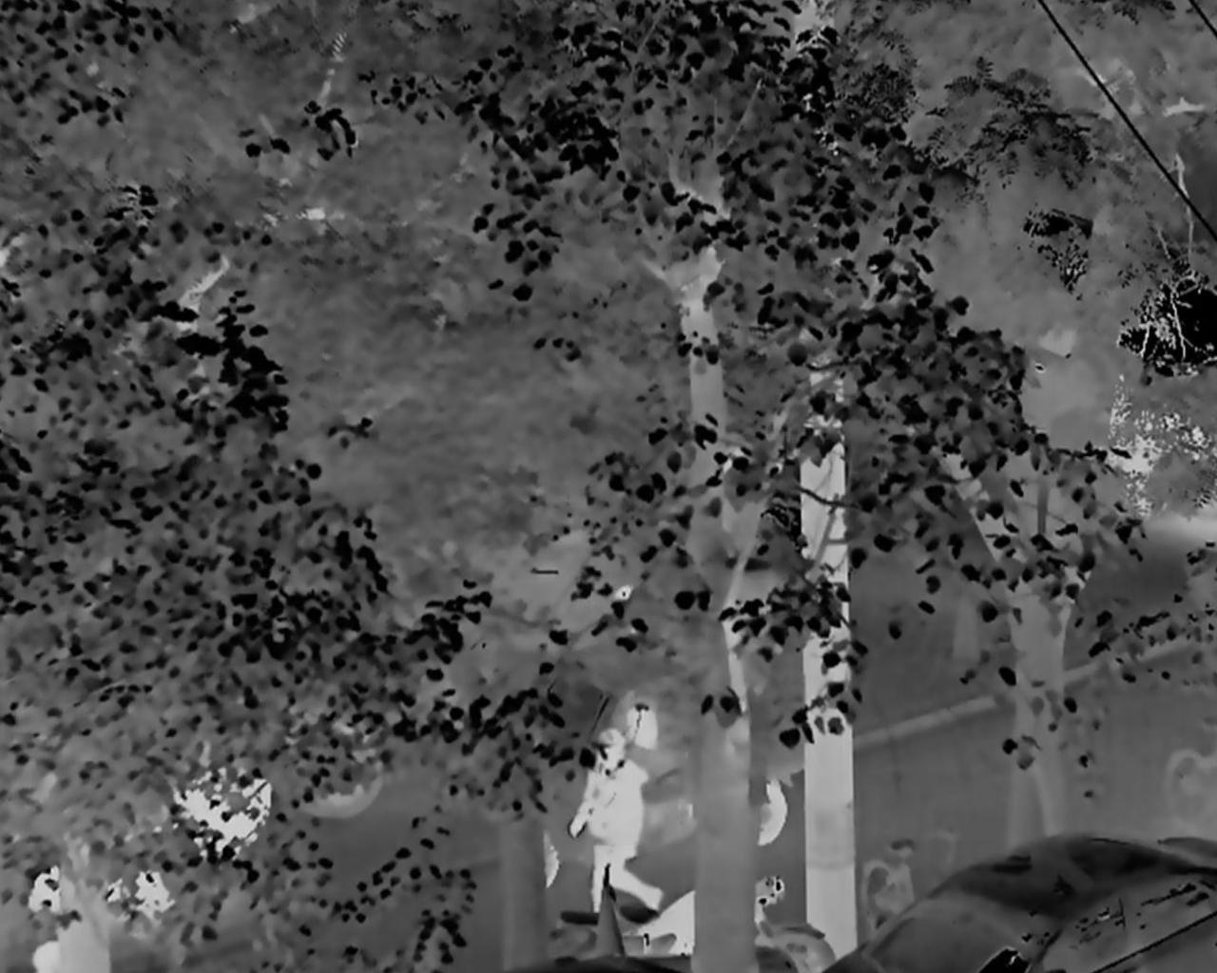person: (569, 728, 661, 914)
